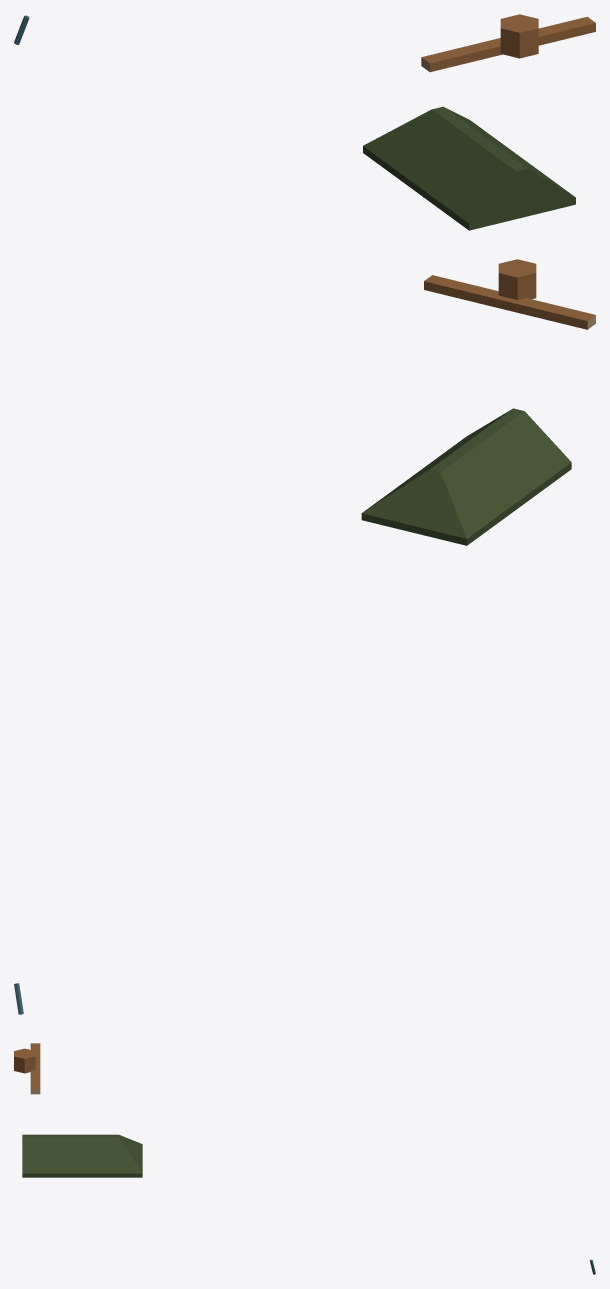
3 renders of one model, top to bottom at view 1: azimuth 30°, elevation 25°; view 2: azimuth 150°, elevation 25°; view 3: azimuth 270°, elevation 25°, orthographic. The views are drawn at different scales.
Parts seen in each view (by area): view 1: Object200_roof1_0, Box15501_brown_0, Cylinder1680_brown_0; view 2: Object200_roof1_0, Box15501_brown_0, Cylinder1680_brown_0; view 3: Object200_roof1_0, Cylinder1680_brown_0, Box15501_brown_0.
Part boxes in pixels (box(x1,y1,x2,y2)): Object200_roof1_0: box(363, 106, 575, 230); Box15501_brown_0: box(421, 16, 595, 72); Cylinder1680_brown_0: box(500, 14, 538, 58); Object200_roof1_0: box(361, 408, 571, 545); Box15501_brown_0: box(424, 275, 595, 329); Cylinder1680_brown_0: box(498, 259, 536, 299); Object200_roof1_0: box(22, 1134, 142, 1177); Cylinder1680_brown_0: box(14, 1048, 35, 1073); Box15501_brown_0: box(30, 1043, 40, 1089).
Size of the model in its own units: 535 by 1200 by 2872.
